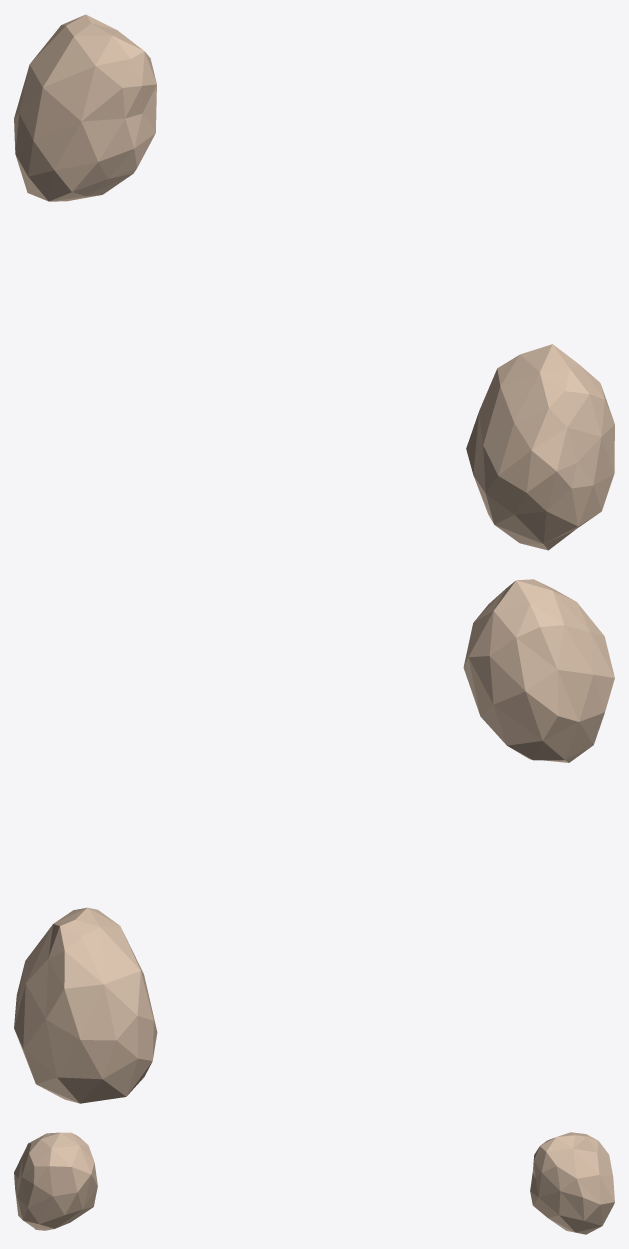
3 views of the same model, one above another, from view 1: azimuth 30°, elevation 25°; view 2: azimuth 150°, elevation 25°; view 3: azimuth 270°, elevation 25° (orthographic). The views are drawn at different scales.
Visible parts, largest first — view 1: 358.obj; view 2: 358.obj; view 3: 358.obj.
Boxes of the visible parts, x1=… form: 358.obj: x1=14, y1=14, x2=614, y2=550; 358.obj: x1=14, y1=579, x2=614, y2=1103; 358.obj: x1=14, y1=1132, x2=614, y2=1234.
Bounding box in the file's own units: 230 × 328 × 1710.
